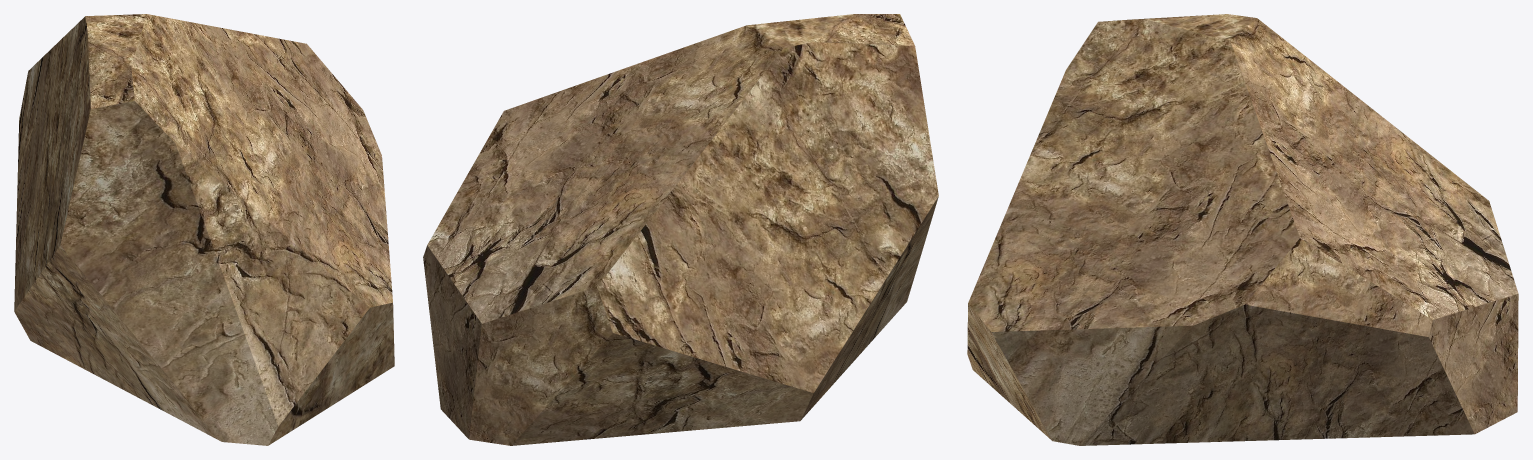
The model's file is Rock with texture.fbx.
The picture shows the model from 3 angles, left to right: view 1: azimuth 30°, elevation 25°; view 2: azimuth 150°, elevation 25°; view 3: azimuth 270°, elevation 25°; orthographic projection. The views are drawn at different scales.
Parts seen in each view (by area): view 1: Icosphere; view 2: Icosphere; view 3: Icosphere.
Boxes of the visible parts, bbox=[...] form: Icosphere: bbox=[14, 14, 394, 445]; Icosphere: bbox=[423, 14, 938, 445]; Icosphere: bbox=[967, 14, 1518, 445].
Bounding box in the file's own units: 323 × 289 × 433.
1 material, 1 textured.
